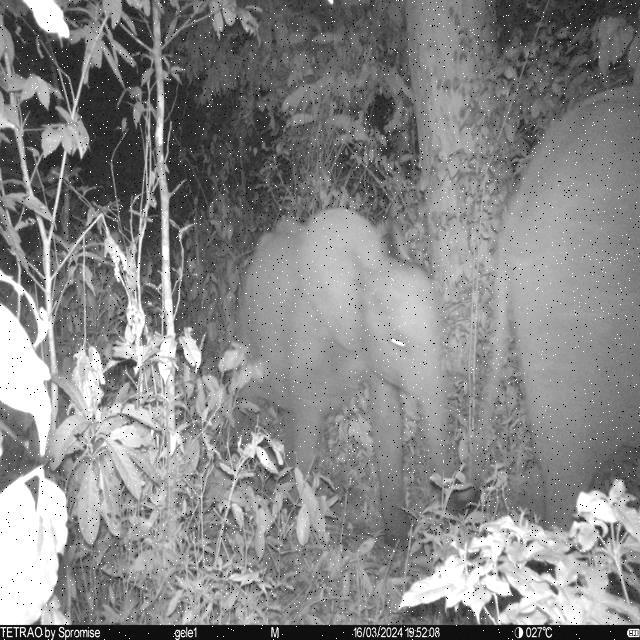calf: (235, 203, 451, 550)
elephant: (489, 63, 640, 530)
tusk: (295, 206, 388, 354)
